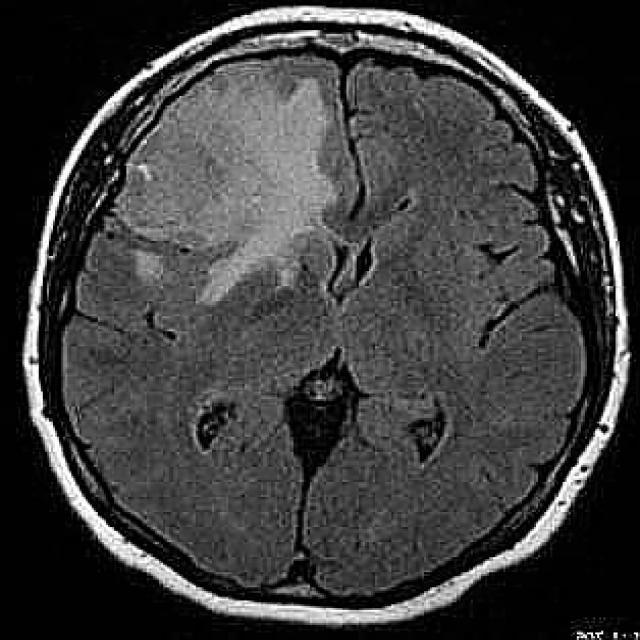Tumor-Cell: (112, 80, 388, 292)
